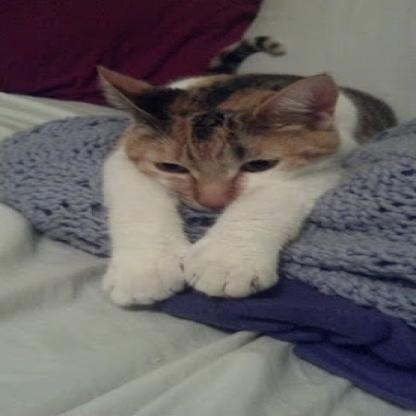Target: (83, 60, 402, 306)
